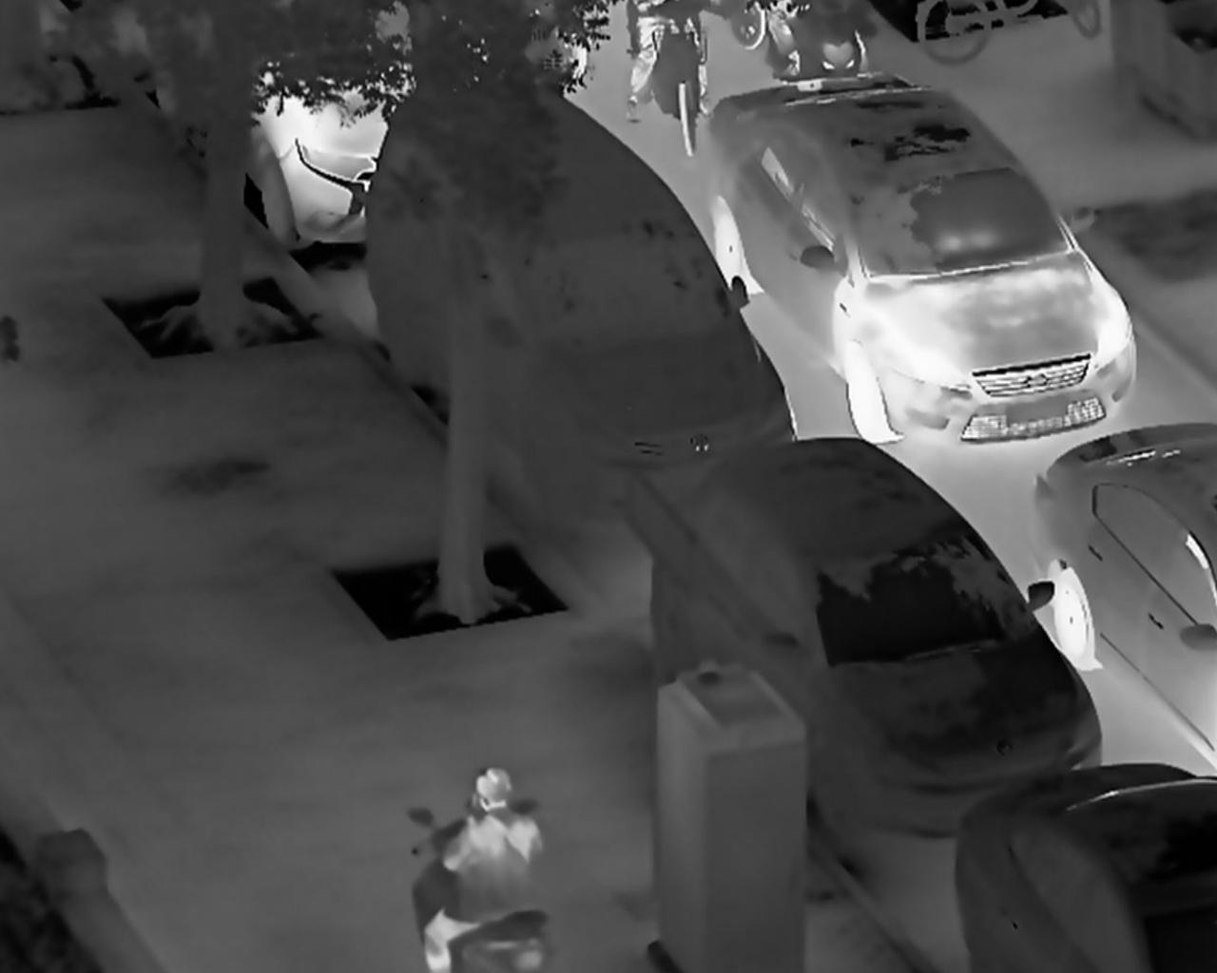person: (415, 761, 555, 973)
